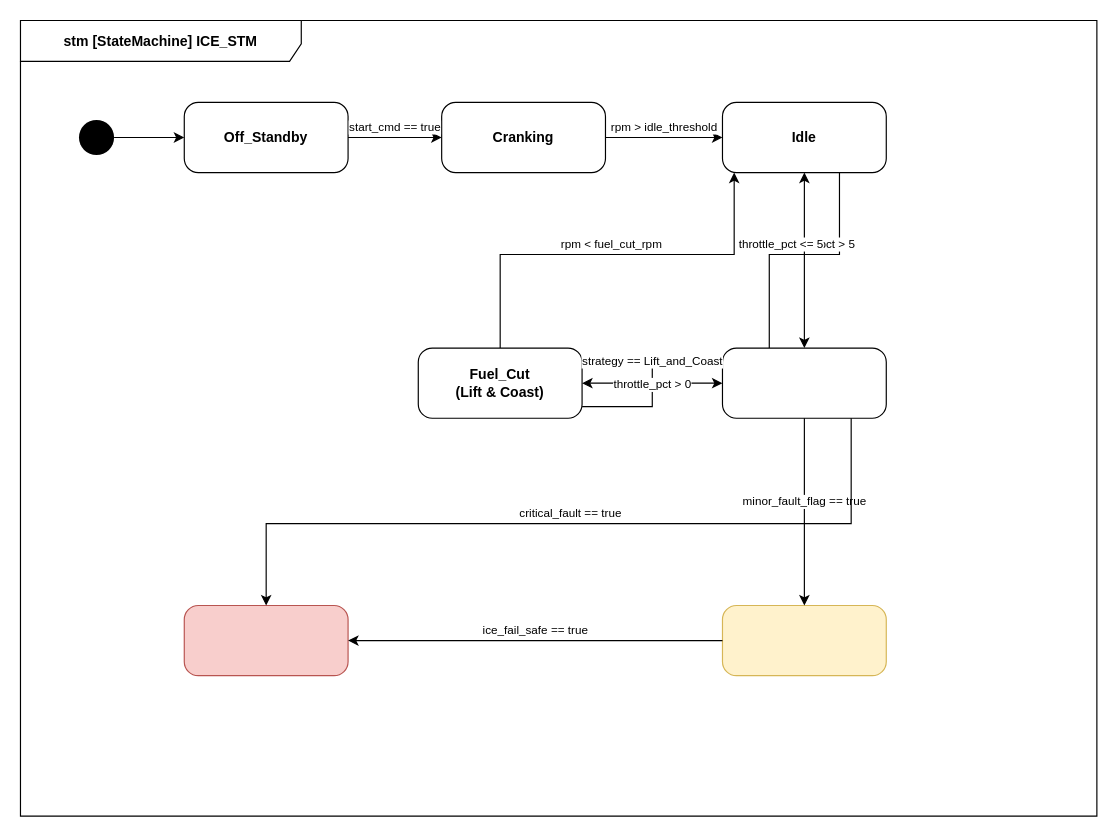
Some shapes in this 1117 by 837 pixel diagram are drawn without their labels. Here are the shapes that lost their labels. From the top down, the box of each, then its label:
(721, 347, 886, 418): Running
(183, 604, 348, 676): Fail_Safe
(721, 604, 886, 676): Limp_Home
